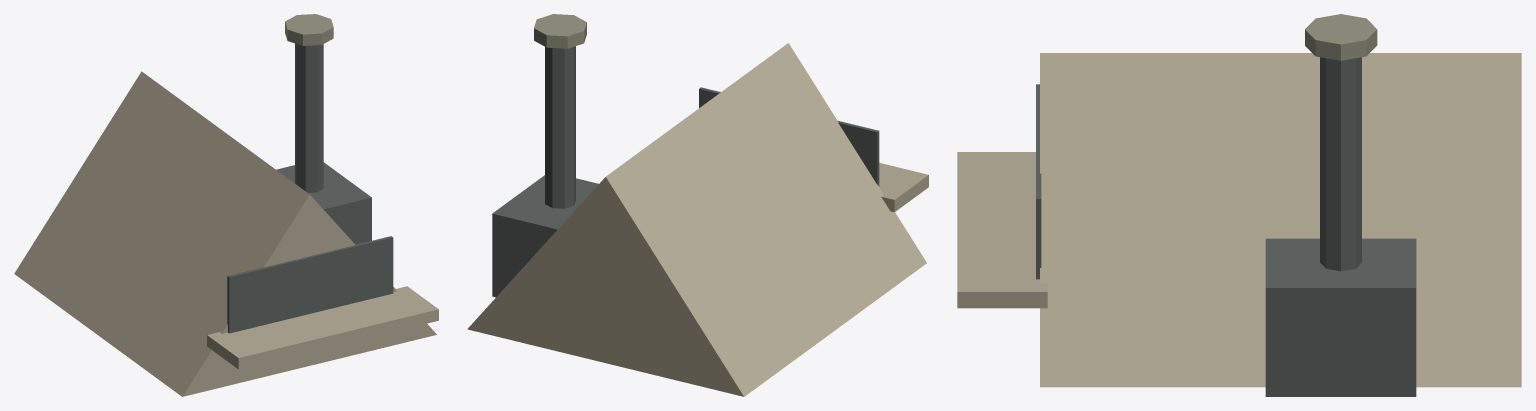
Rendered from field-kitchen.glb.
3 renders of one model, left to right at view 1: azimuth 30°, elevation 25°; view 2: azimuth 150°, elevation 25°; view 3: azimuth 270°, elevation 25°, orthographic. The views are drawn at different scales.
Visible parts, largest first — view 1: tent, serving-hatch, serving-counter, kitchen-flue, stove, vent-cap; view 2: tent, stove, kitchen-flue, serving-counter, vent-cap, serving-hatch; view 3: tent, stove, serving-counter, kitchen-flue, vent-cap, serving-hatch.
Boxes of the visible parts, box(x1,y1,x2,y2) form: tent: box(14, 71, 436, 396); serving-hatch: box(227, 236, 393, 333); serving-counter: box(207, 286, 438, 369); kitchen-flue: box(295, 43, 323, 192); stove: box(276, 162, 371, 244); vent-cap: box(285, 14, 333, 45); tent: box(467, 43, 926, 396); stove: box(492, 175, 598, 297); kitchen-flue: box(545, 46, 575, 208); serving-counter: box(879, 163, 928, 212); vent-cap: box(534, 14, 586, 48); serving-hatch: box(699, 87, 879, 186); tent: box(1040, 53, 1521, 387); stove: box(1265, 238, 1416, 396); serving-counter: box(957, 152, 1047, 308); kitchen-flue: box(1320, 57, 1361, 271); vent-cap: box(1305, 14, 1377, 60); serving-hatch: box(1036, 84, 1041, 279).
Bounding box in the file's own units: 2.95 × 2.51 × 3.75.
